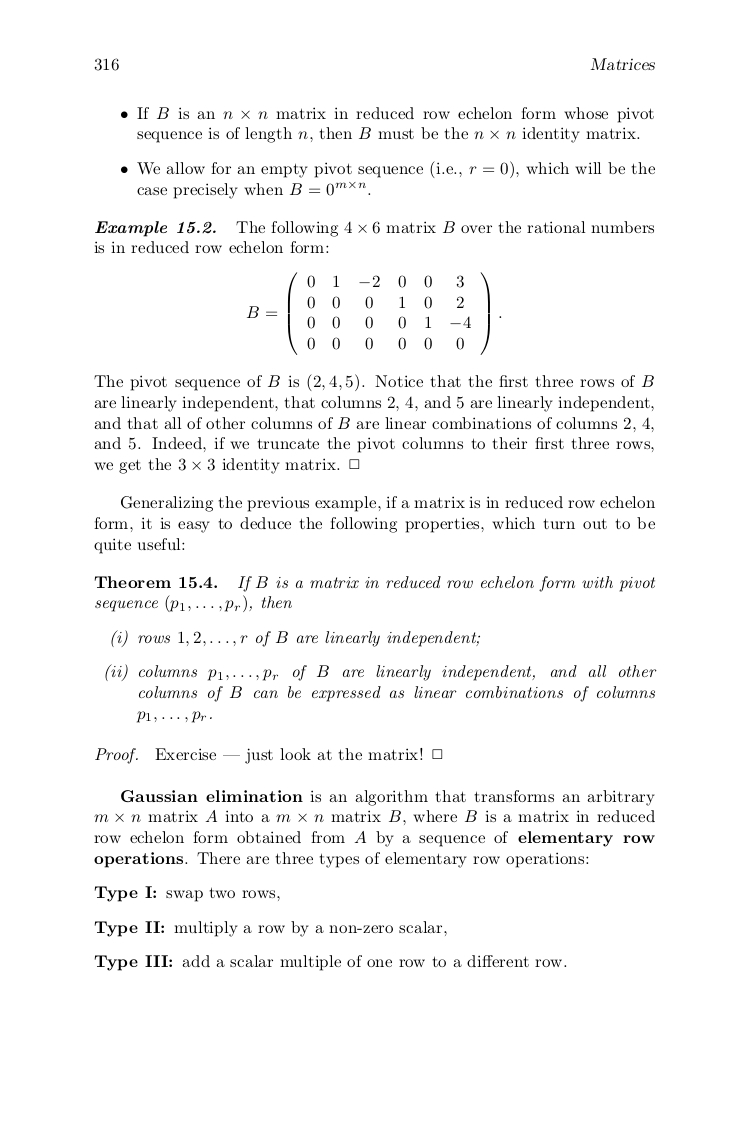formula: (246, 271, 501, 355)
